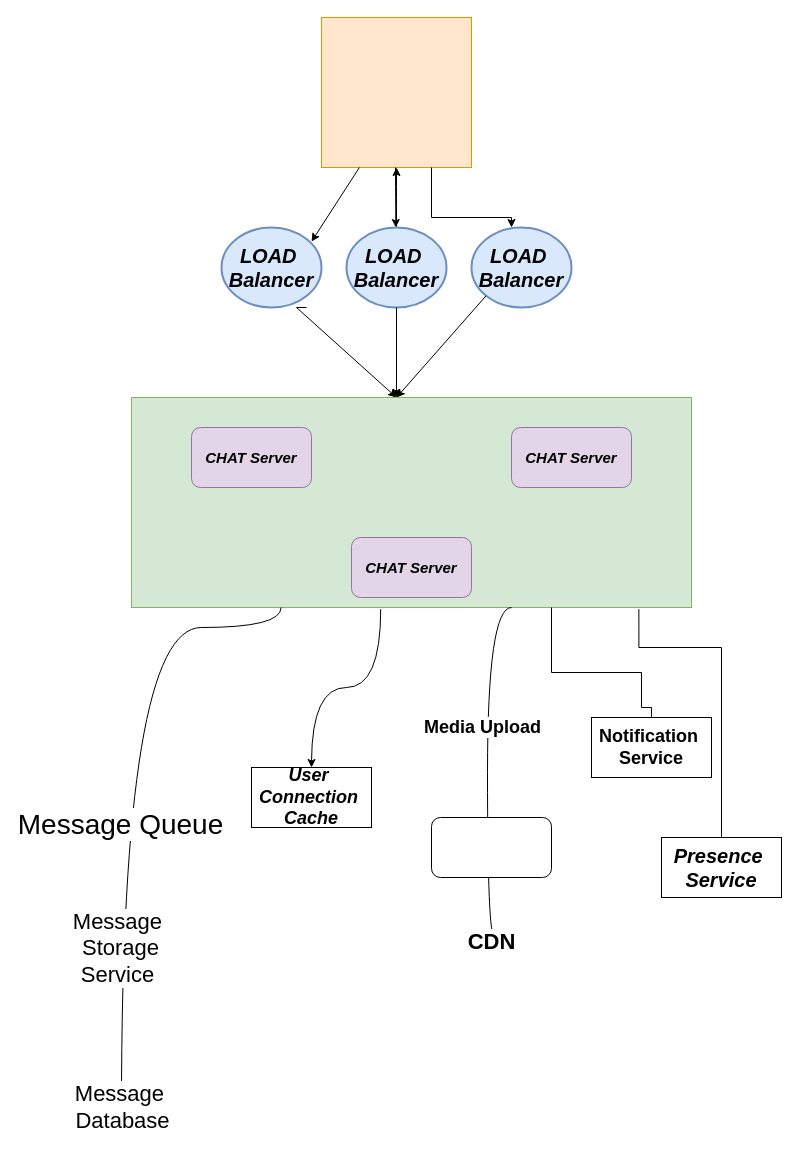
Image size: 799x1151. Some labels were removed from this diagram. The box of each missing label's shape, as (x1, y1, x2, y2) in pixels:
BLOB STORAGE -AWS S3 or Google Cloud: (430, 816, 552, 878)
CHAT SERVERS: (130, 396, 692, 608)
Client 📳 Mobile App: (320, 16, 472, 168)
